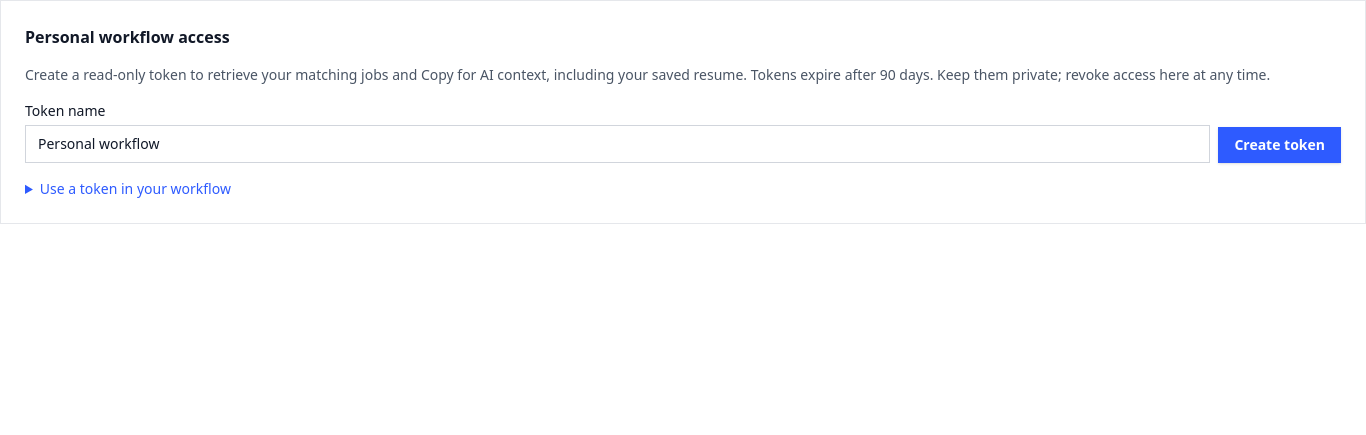
Test: Account settings › creates a one-time token then revokes it and hides the secret
The image size is (1366, 435).
Submit the form, box [25, 101, 1341, 163]
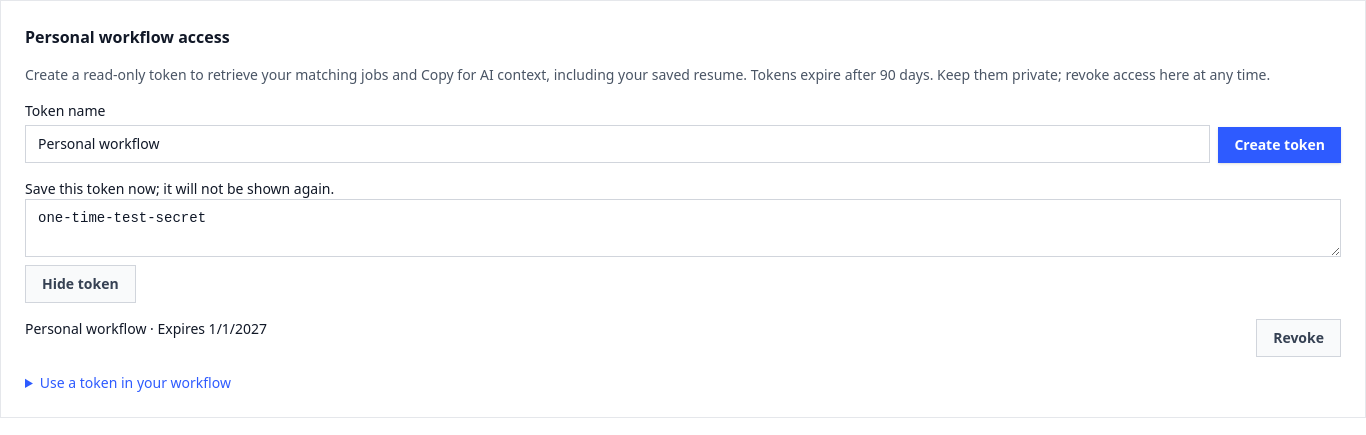
Expected: the text box labelled "Save this token now; it will not be shown again." holds "one-time-test-secret", [25, 199, 1341, 257]
Click the button "Revoke" at (1299, 338), box [1256, 319, 1341, 357]
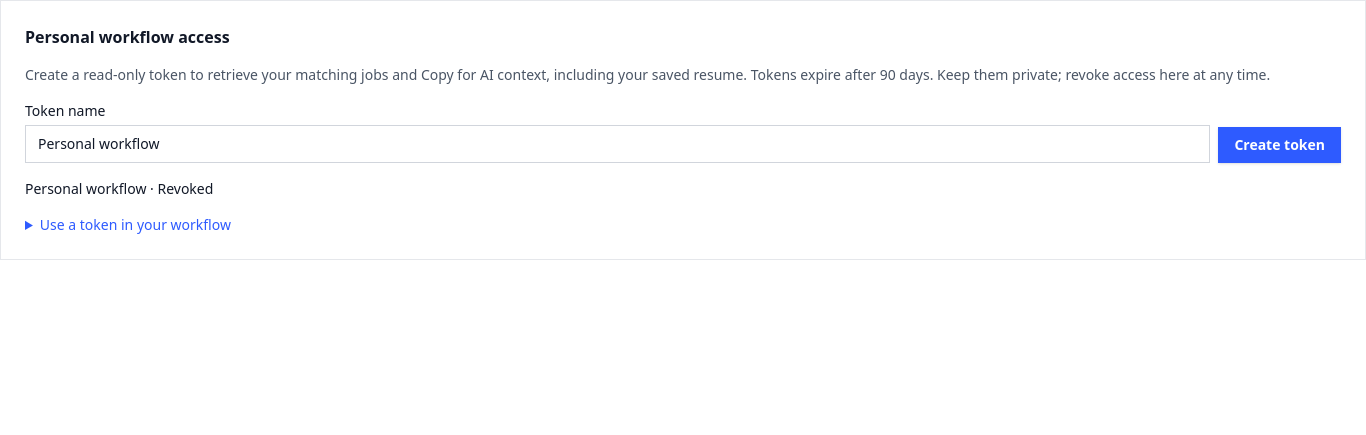
Expected: the text "Revoked" is shown, [25, 179, 213, 198]
